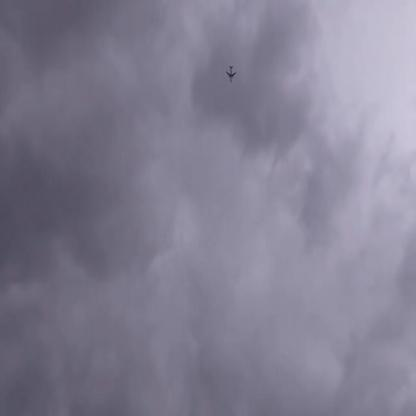CIV_Plane: (224, 66, 238, 84)
